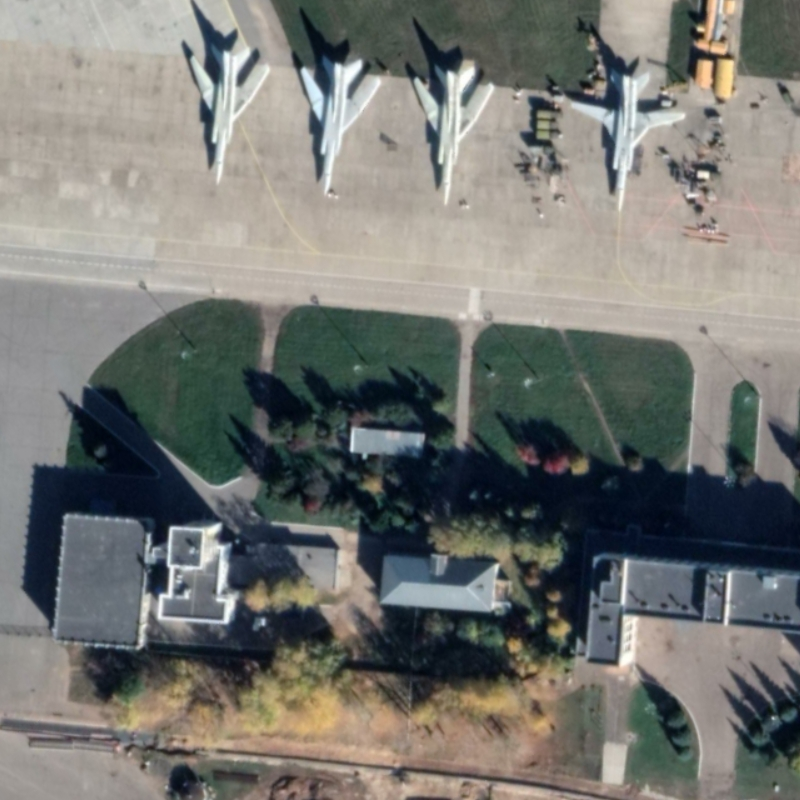A12: (556, 62, 692, 219), (180, 37, 276, 191), (406, 55, 498, 210), (292, 48, 388, 196)
